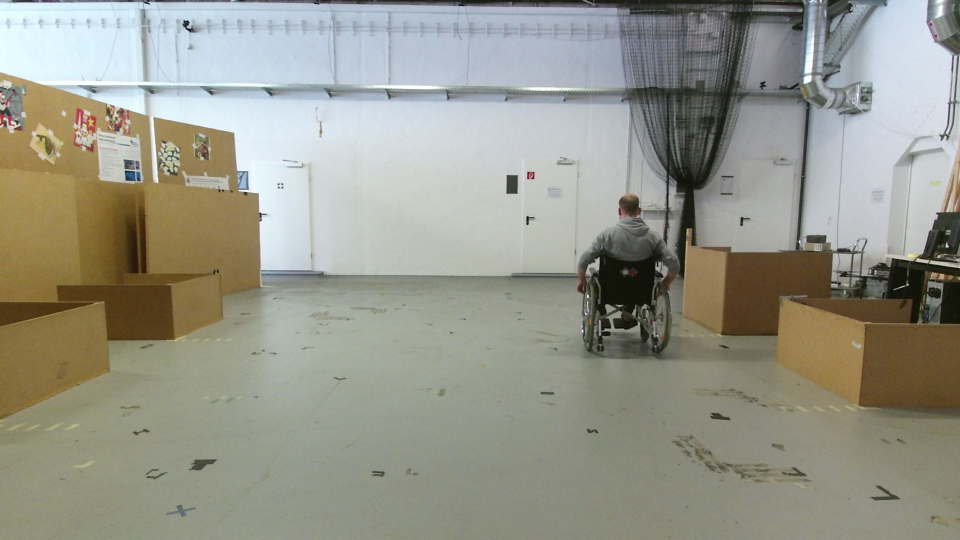wheelchair: (572, 187, 683, 364)
